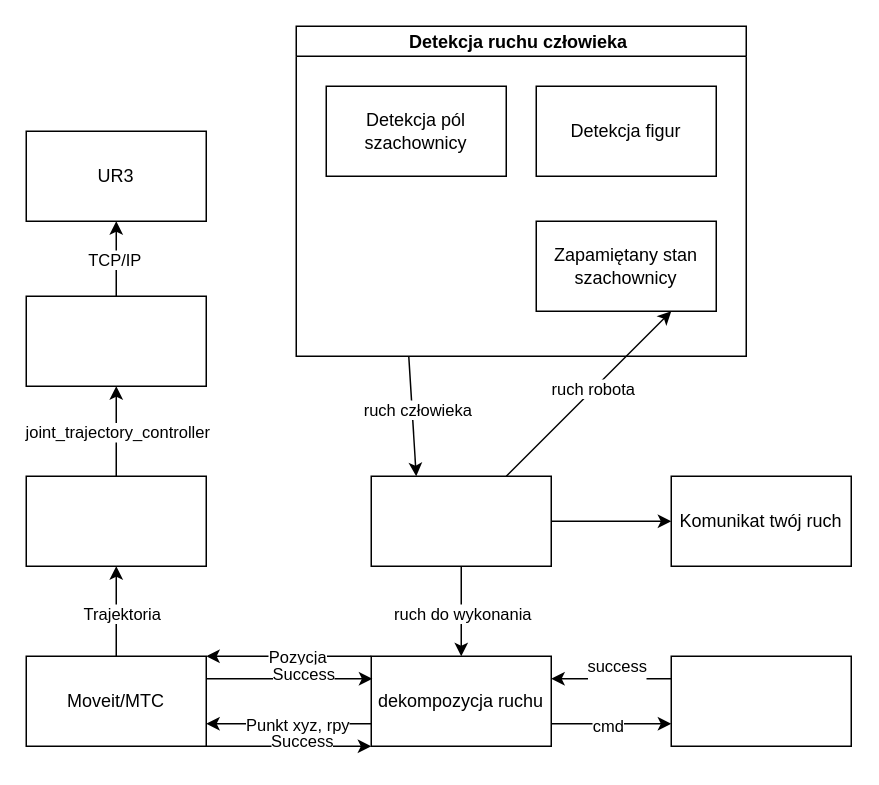
Image size: 879x785. Some labels were removed from this diagram. Here are the shapes that lost their labels. From the top down, the centre of each, then its label:
At pixel 115 340: "ur_robot_driver".
At pixel 115 520: "ros2_controll".
At pixel 460 520: "Stockfish".
At pixel 760 700: "Sterownik chwytaka".
